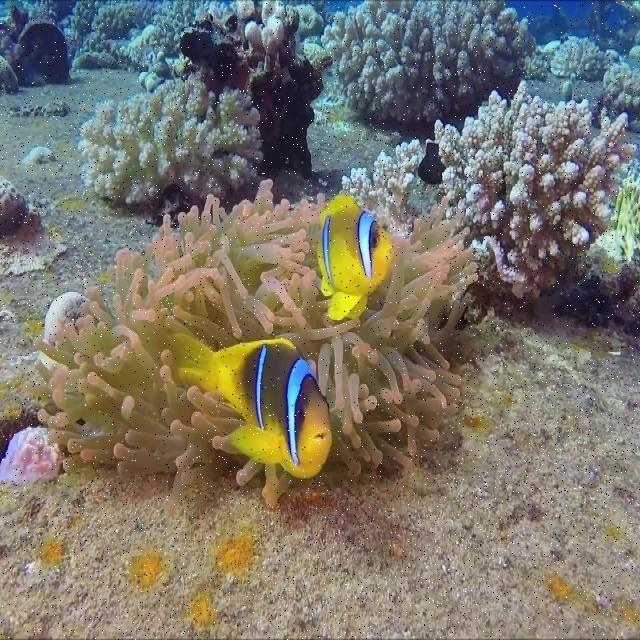fish: (167, 331, 333, 478), (317, 194, 394, 320)
reefs: (23, 179, 478, 517), (340, 81, 637, 299), (321, 0, 538, 124), (177, 1, 325, 175), (77, 71, 263, 203), (0, 0, 234, 93)
